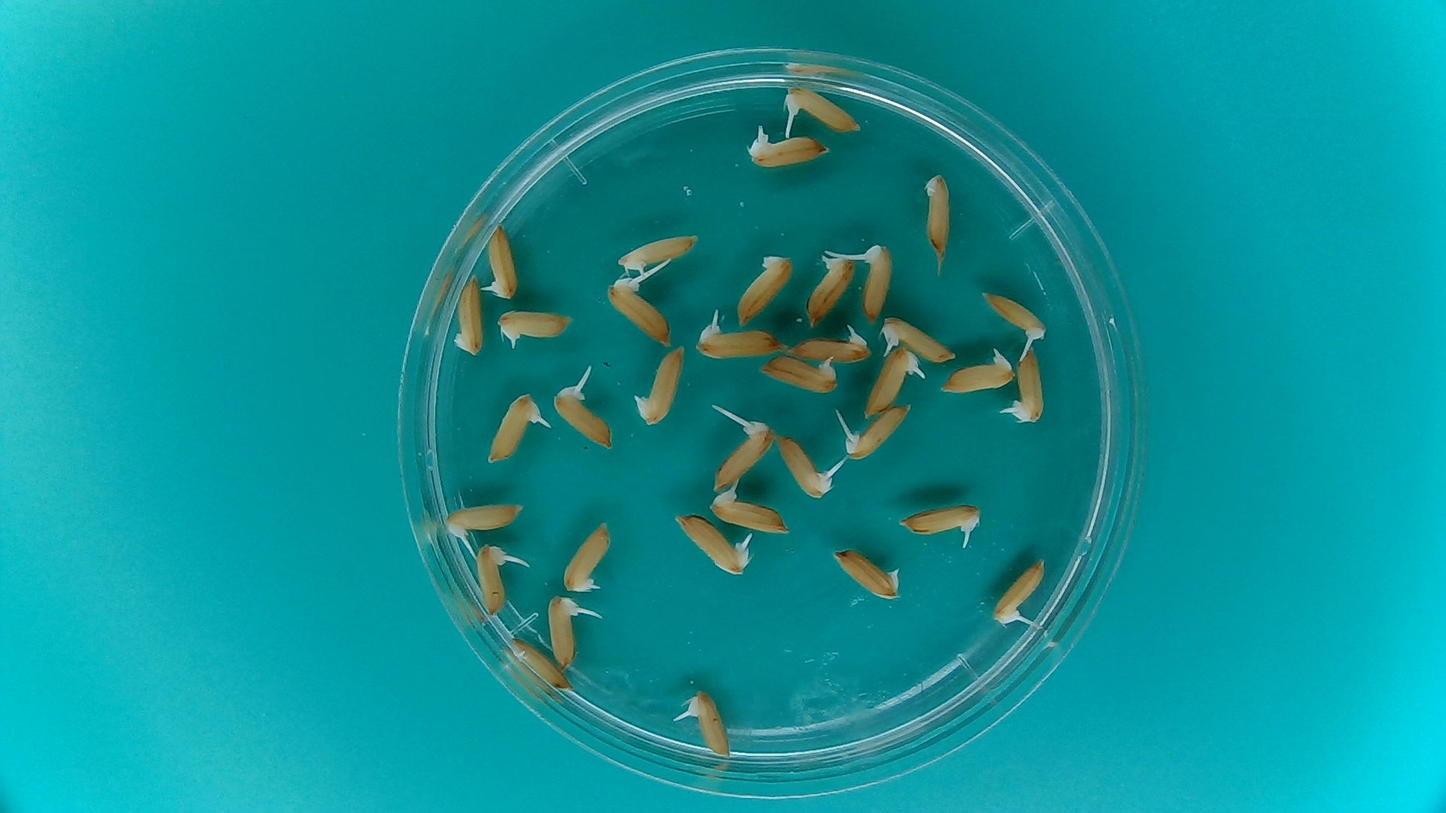no: (734, 254, 794, 327), (829, 544, 903, 602), (505, 635, 570, 691), (920, 166, 953, 262), (452, 272, 486, 358)
yes: (604, 279, 676, 347), (991, 546, 1048, 630), (778, 82, 864, 136), (678, 516, 750, 576), (634, 344, 686, 427), (483, 394, 541, 468), (877, 313, 960, 364), (980, 290, 1046, 354), (676, 686, 733, 760), (443, 498, 524, 549), (712, 421, 770, 492), (776, 428, 834, 498), (804, 250, 856, 328), (553, 385, 614, 450), (492, 305, 577, 350), (694, 321, 789, 360), (711, 492, 794, 536), (562, 521, 611, 595), (614, 231, 700, 273), (862, 350, 916, 416), (844, 407, 908, 462), (1002, 346, 1046, 425), (787, 326, 877, 362), (481, 221, 521, 302), (761, 355, 839, 395), (744, 133, 830, 169), (943, 356, 1014, 397), (473, 544, 512, 616), (545, 593, 581, 671), (862, 244, 894, 325), (901, 504, 978, 537)
